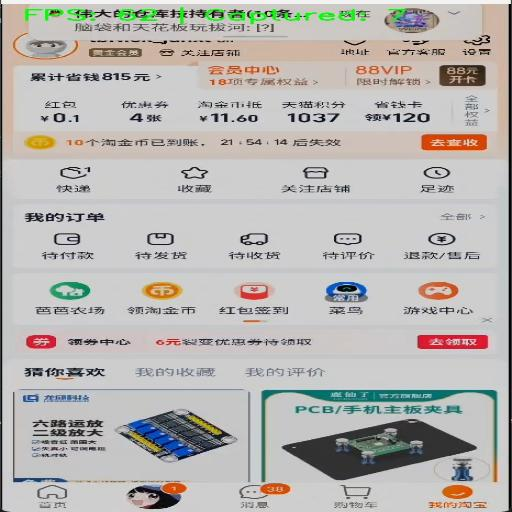butten: (144, 158, 247, 198), (218, 281, 289, 323), (13, 359, 125, 385), (227, 232, 281, 264), (49, 163, 92, 200), (227, 232, 280, 260), (34, 305, 104, 316)
